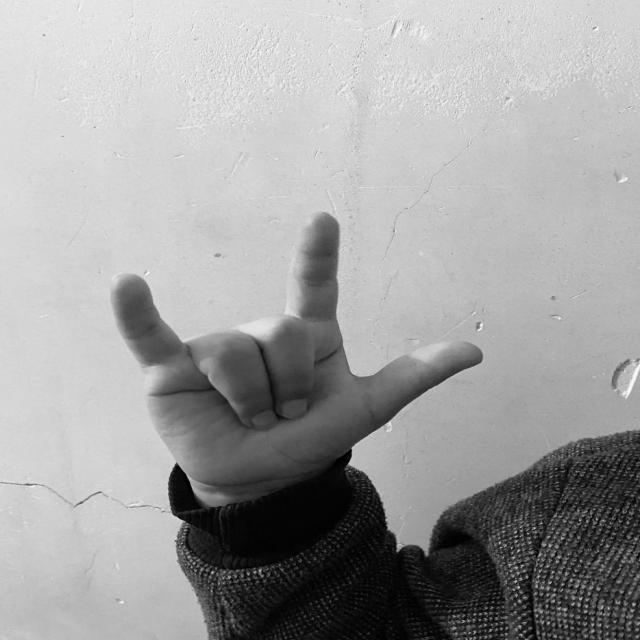i love you: (100, 202, 493, 524)
